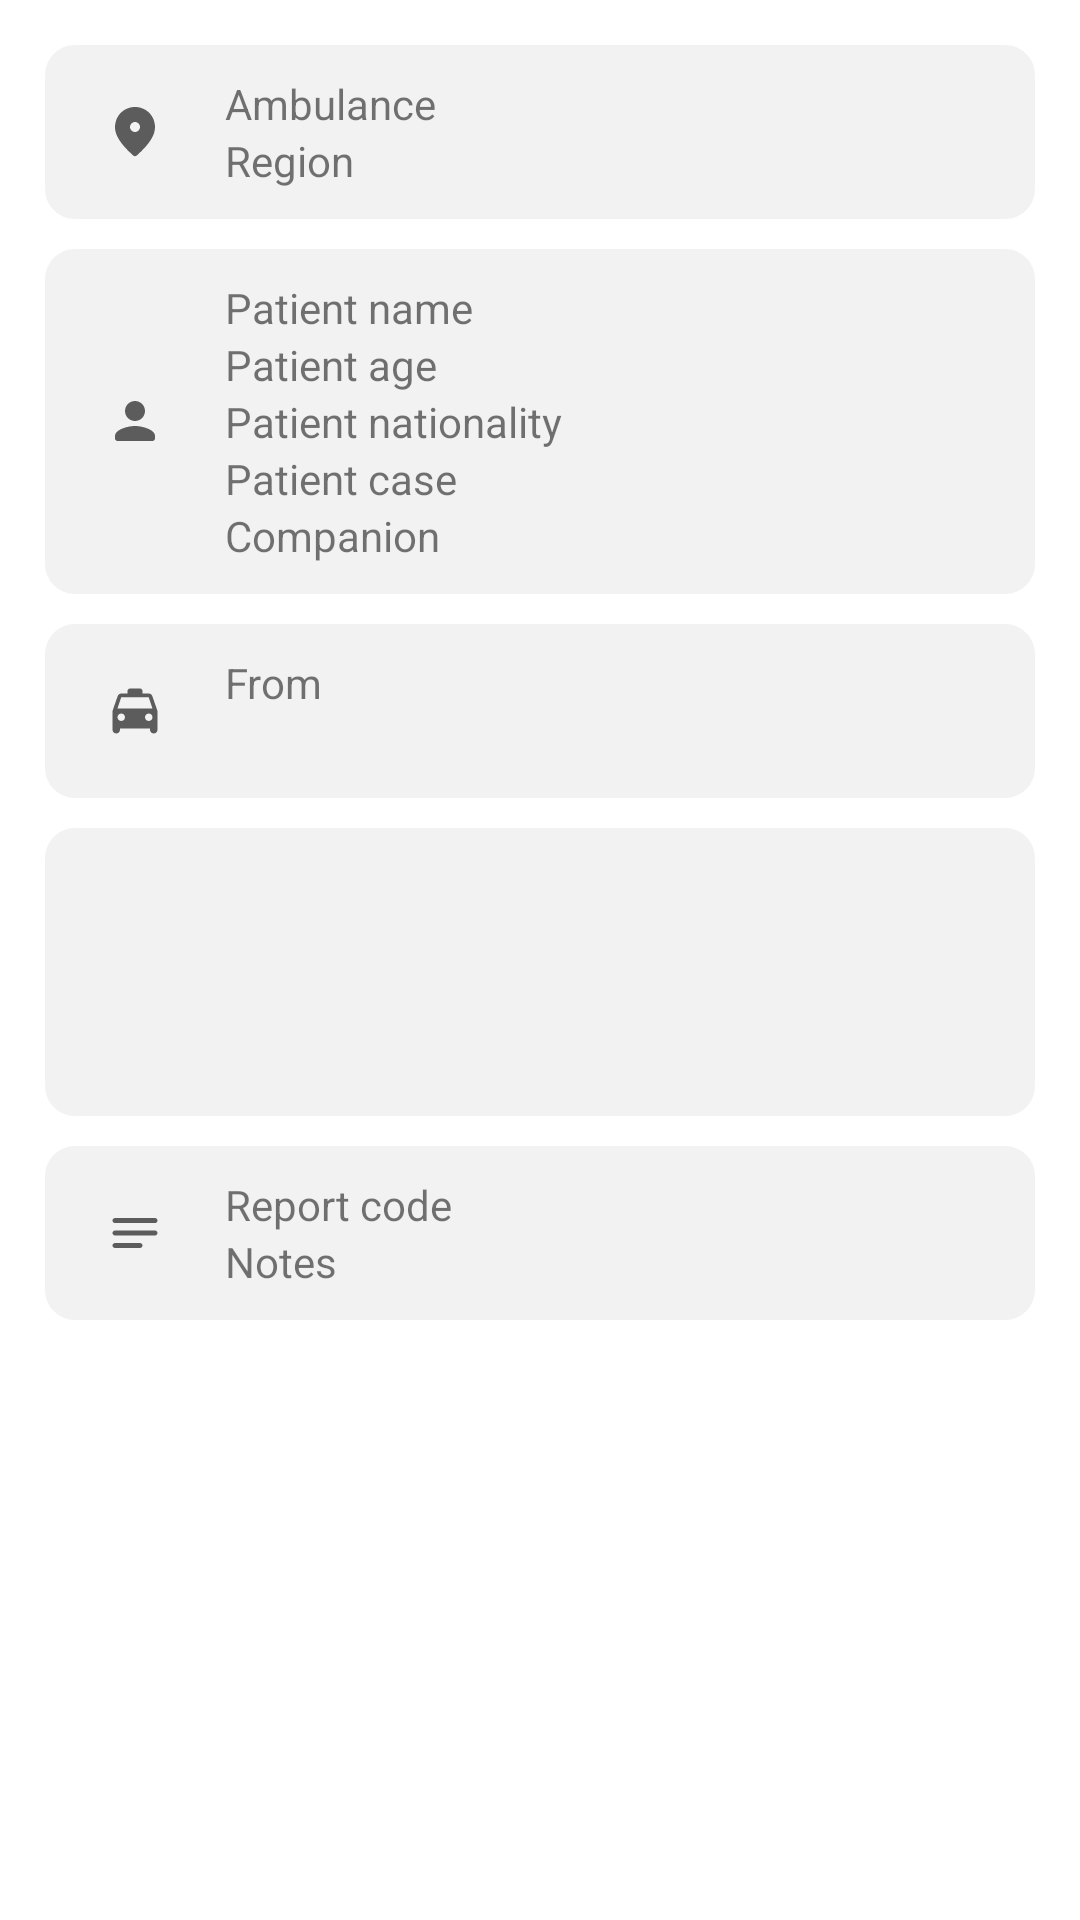

Named icons in this screenshot (1080px x 1920px) and their centers, point (x, y):
location: point (135, 131)
transport: point (135, 711)
